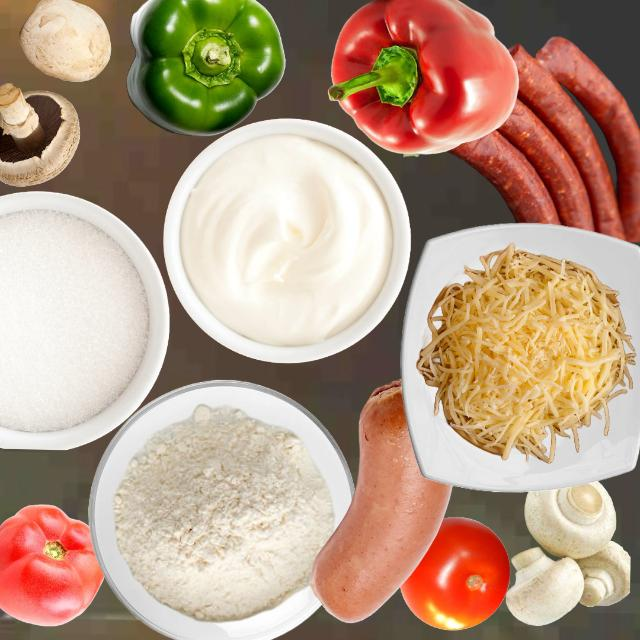Flour: (113, 402, 334, 621)
Sugar: (0, 207, 148, 432)
